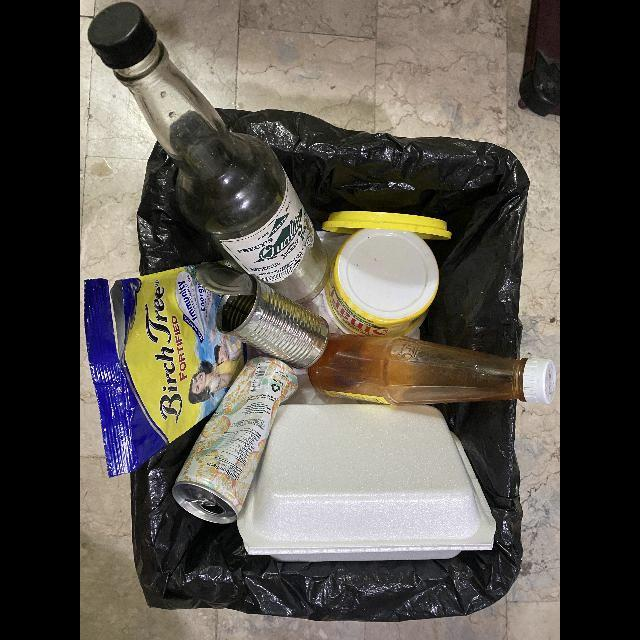aluminum: (172, 357, 299, 525), (196, 262, 329, 370)
food_wrapper: (84, 265, 247, 479)
glass_bottle: (87, 2, 332, 304), (307, 334, 557, 406)
plastic_container: (322, 229, 440, 337), (322, 211, 452, 240)
